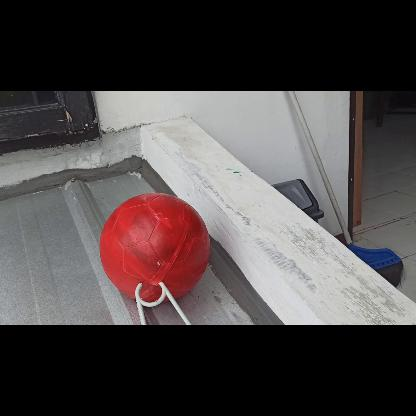red_ball: (98, 191, 210, 303)
